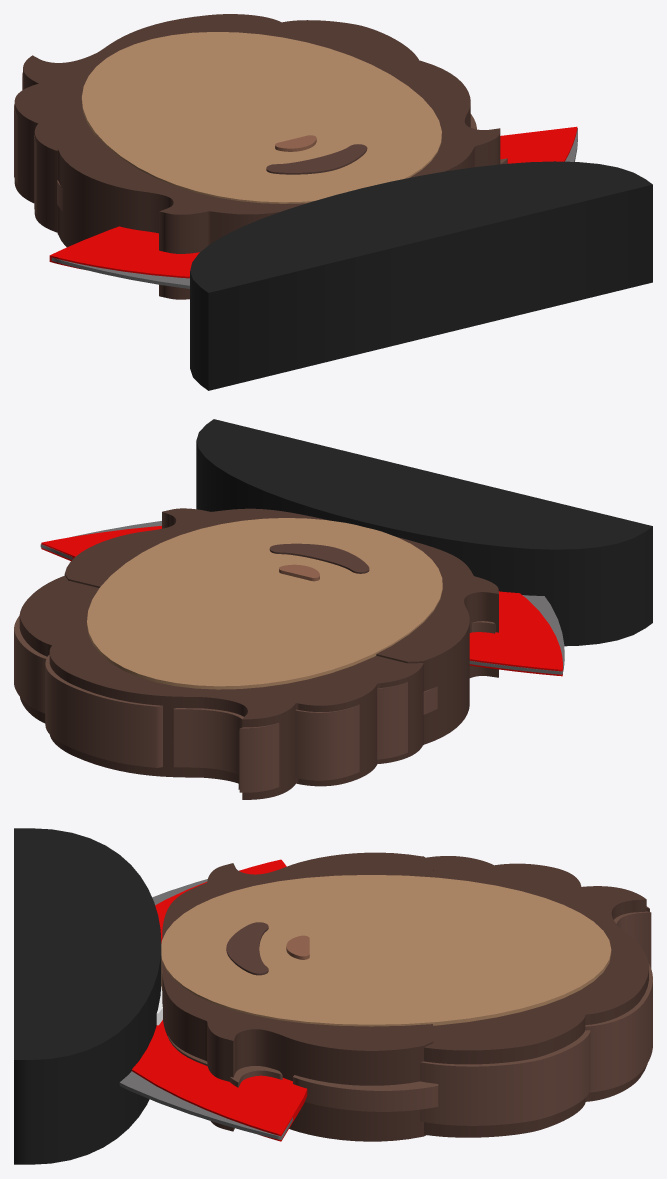
Rendered from emoji_u1f9db_1f3fd.glb.
3 views of the same model, one above another, from view 1: azimuth 30°, elevation 25°; view 2: azimuth 150°, elevation 25°; view 3: azimuth 270°, elevation 25° (orthographic). The views are drawn at different scales.
Visible parts, largest first — view 1: emoji_u1f9db_1f3fd; view 2: emoji_u1f9db_1f3fd; view 3: emoji_u1f9db_1f3fd.
Part boxes in pixels (left/top/right/bottom): emoji_u1f9db_1f3fd: left=14, top=14, right=652, bottom=390; emoji_u1f9db_1f3fd: left=14, top=419, right=652, bottom=799; emoji_u1f9db_1f3fd: left=14, top=828, right=652, bottom=1164.
Size of the model in its own units: 0.0339 by 0.006 by 0.0332.
